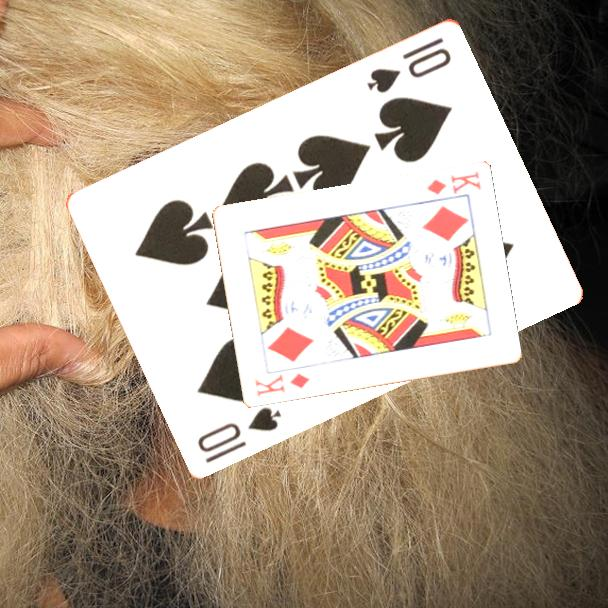d13: (251, 370, 312, 400), (423, 168, 483, 198)
s10: (363, 33, 455, 96), (194, 403, 285, 465)
